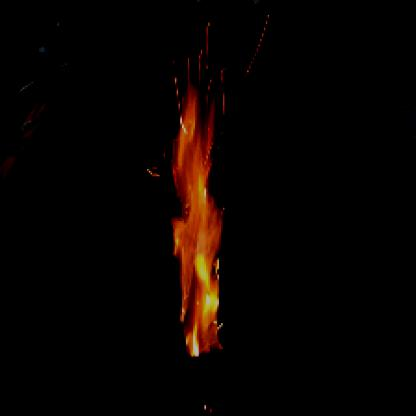Fire: (160, 22, 247, 357)
